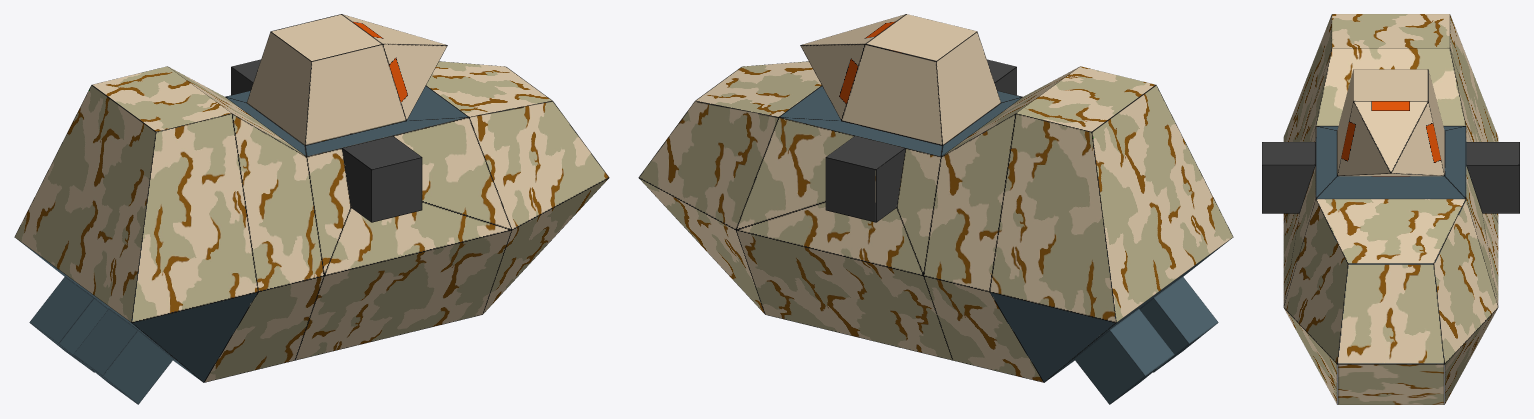
Rendered from Body.obj.
3 renders of one model, left to right at view 1: azimuth 30°, elevation 25°; view 2: azimuth 150°, elevation 25°; view 3: azimuth 270°, elevation 25°, orthographic. The views are drawn at different scales.
Visible parts, largest first — view 1: Body, Booster; view 2: Body, Booster; view 3: Body.
Boxes of the visible parts, x1,y1,x2,y2 form: Body: [14, 14, 609, 382]; Booster: [29, 276, 173, 404]; Body: [638, 14, 1233, 382]; Booster: [1074, 276, 1218, 404]; Body: [1262, 14, 1519, 404].
Bounding box in the file's own units: 5.07 × 2.7 × 2.4.
2 materials, 2 textured.
